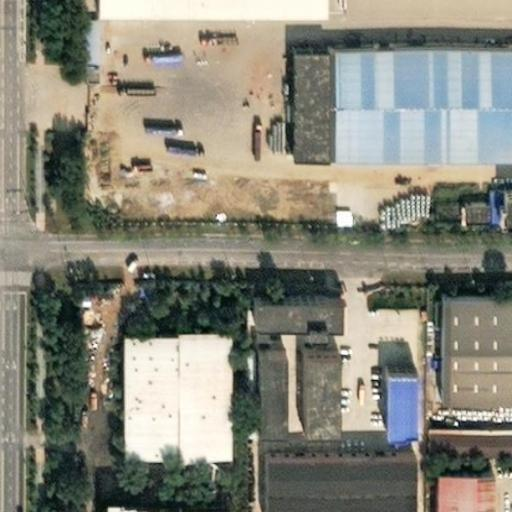building: (318, 35, 512, 146), (107, 320, 217, 446), (257, 441, 405, 509), (426, 284, 512, 395), (279, 35, 318, 141), (239, 284, 328, 318), (88, 489, 214, 512), (422, 462, 478, 512), (427, 421, 512, 452), (294, 336, 328, 413), (247, 335, 274, 413), (375, 351, 403, 416), (372, 302, 420, 321), (69, 8, 89, 52), (488, 178, 512, 205), (333, 205, 354, 225), (451, 192, 476, 205)
